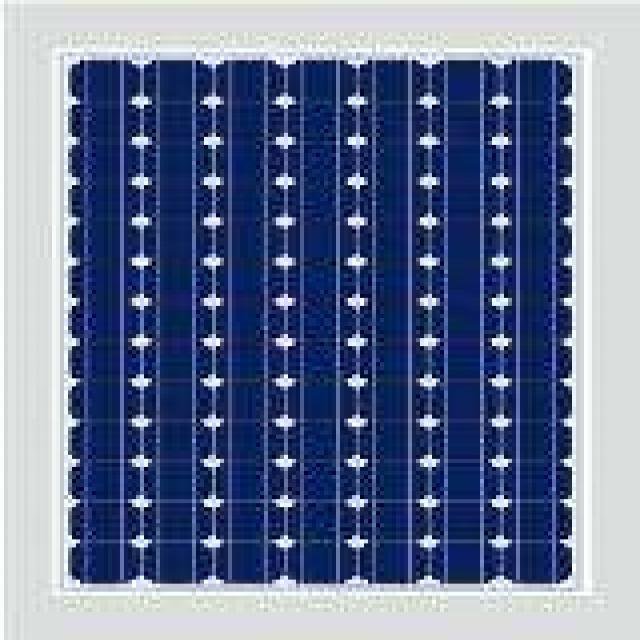no faulty: (59, 52, 586, 588)
